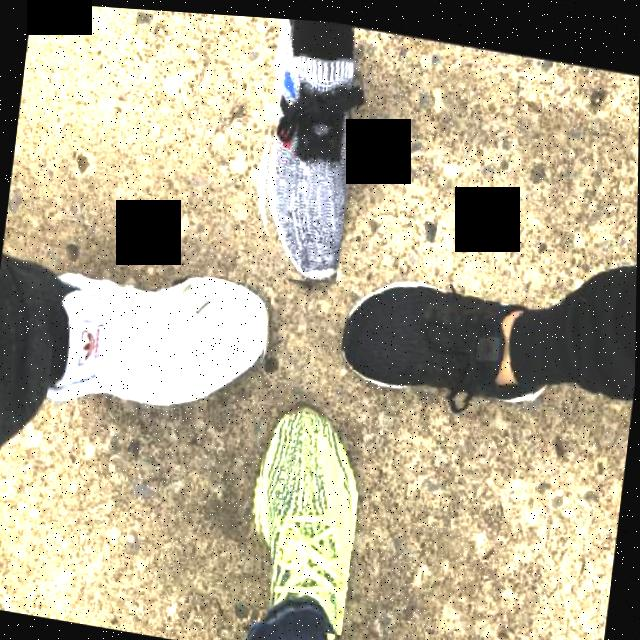shoe: (48, 250, 273, 429), (337, 261, 547, 408), (242, 393, 369, 632), (246, 32, 363, 285)
